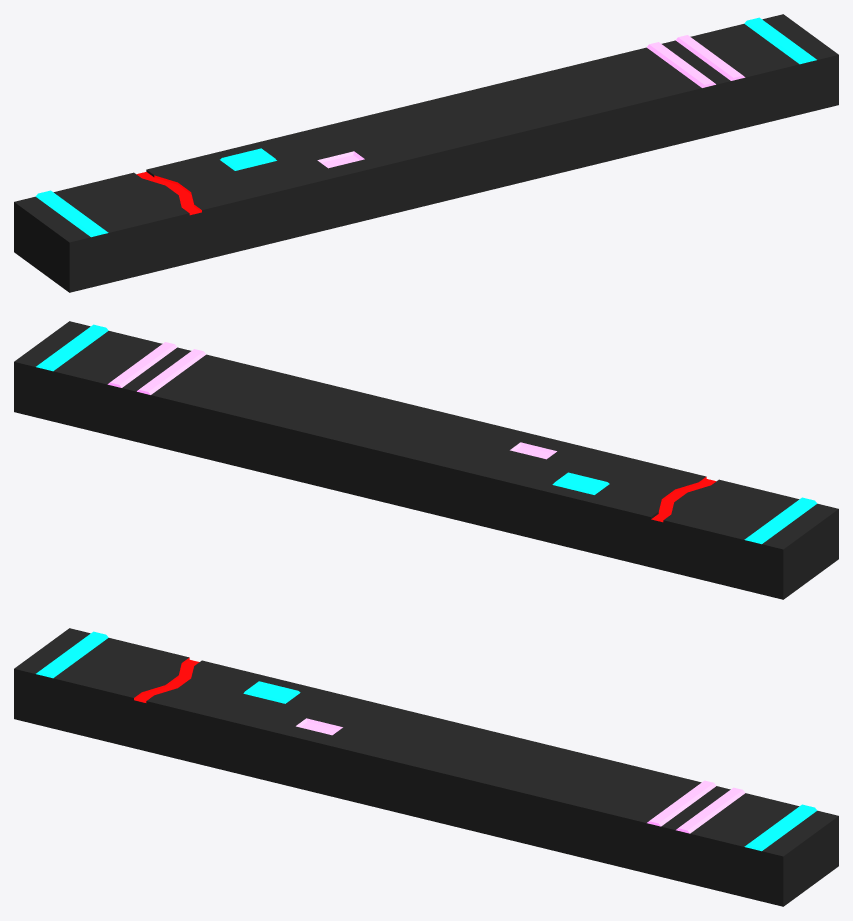
The model's file is cyberChunk.gltf.
3 renders of one model, top to bottom at view 1: azimuth 30°, elevation 25°; view 2: azimuth 150°, elevation 25°; view 3: azimuth 330°, elevation 25°, orthographic.
Parts seen in each view (by area): view 1: cyberChunk; view 2: cyberChunk; view 3: cyberChunk.
Boxes of the visible parts, x1=… form: cyberChunk: x1=14, y1=14, x2=838, y2=292; cyberChunk: x1=14, y1=321, x2=838, y2=599; cyberChunk: x1=14, y1=628, x2=838, y2=906.
Size of what is drawn, in the model's own units: 16 by 1.05 by 2.
1 material, 1 textured.
